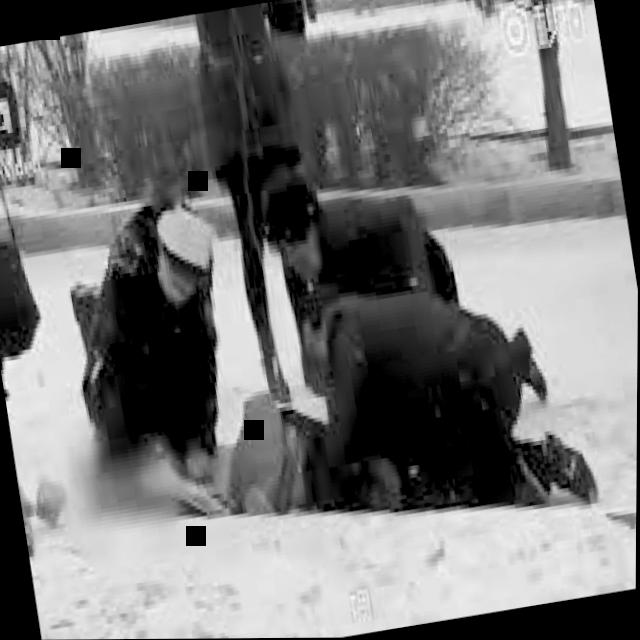Fall-Detected: (160, 347, 580, 549)
